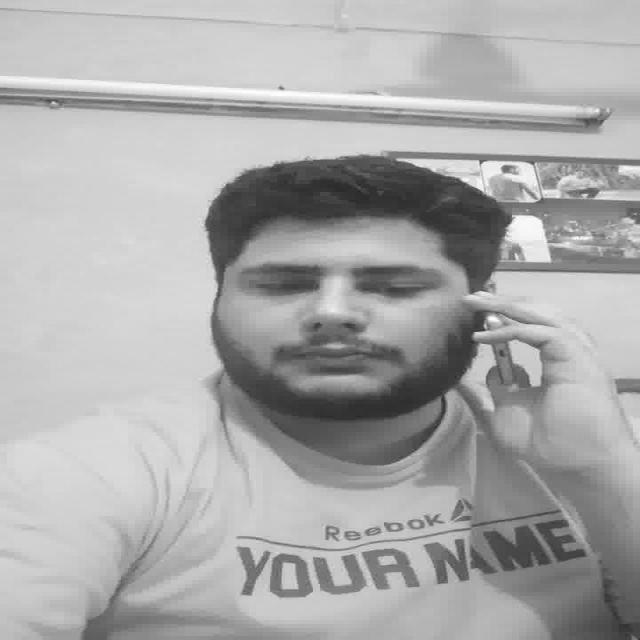fake: (464, 288, 535, 400)
